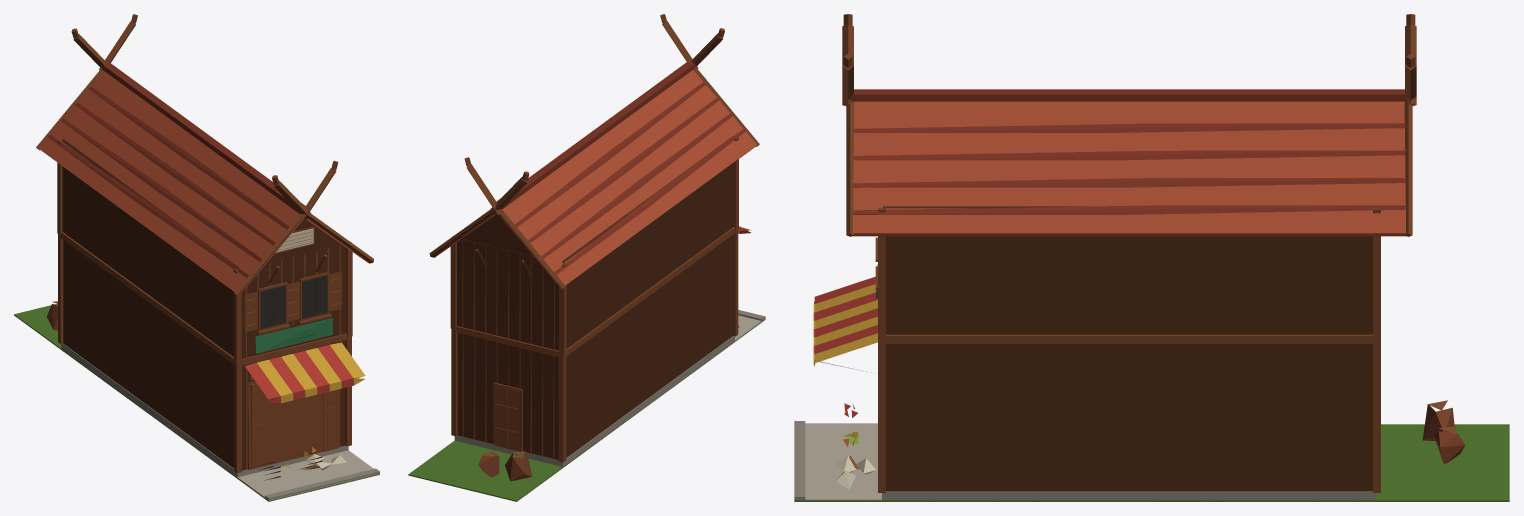
The model's file is bay1_mid2.glb.
3 views of the same model, side by side, from view 1: azimuth 30°, elevation 25°; view 2: azimuth 150°, elevation 25°; view 3: azimuth 270°, elevation 25° (orthographic). The views are drawn at different scales.
Parts seen in each view (by area): view 1: body, windows; view 2: body; view 3: body.
Part boxes in pixels (x1,y1,x2,y2): body: (14,14,379,501); windows: (260,275,327,328); body: (408,14,765,501); body: (794,14,1509,501).
Bounding box in the file's own units: 5.02 × 10.54 × 15.9.
